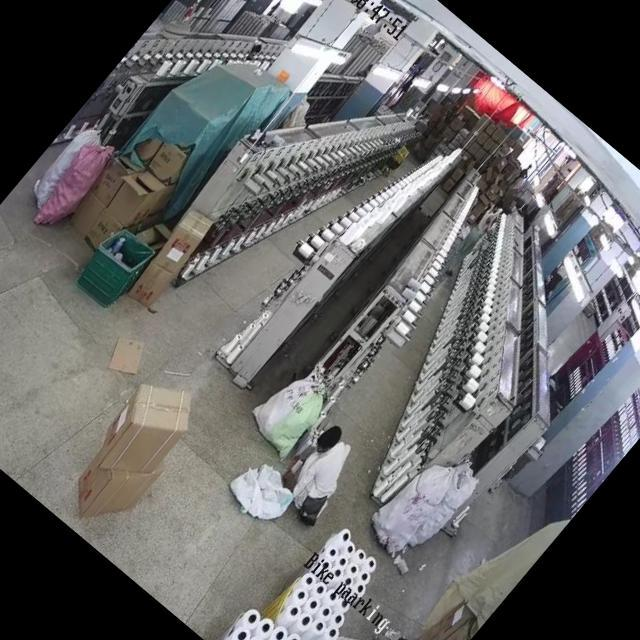person: (284, 428, 359, 507), (436, 199, 508, 279)
